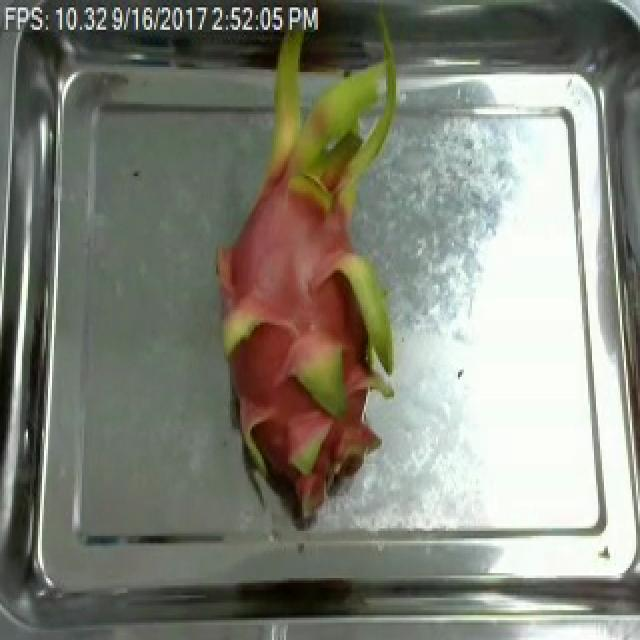fruit: (198, 39, 448, 488)
